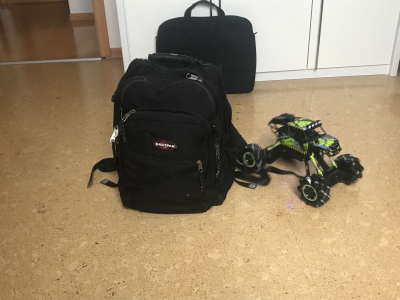remote control car: (241, 110, 365, 209)
